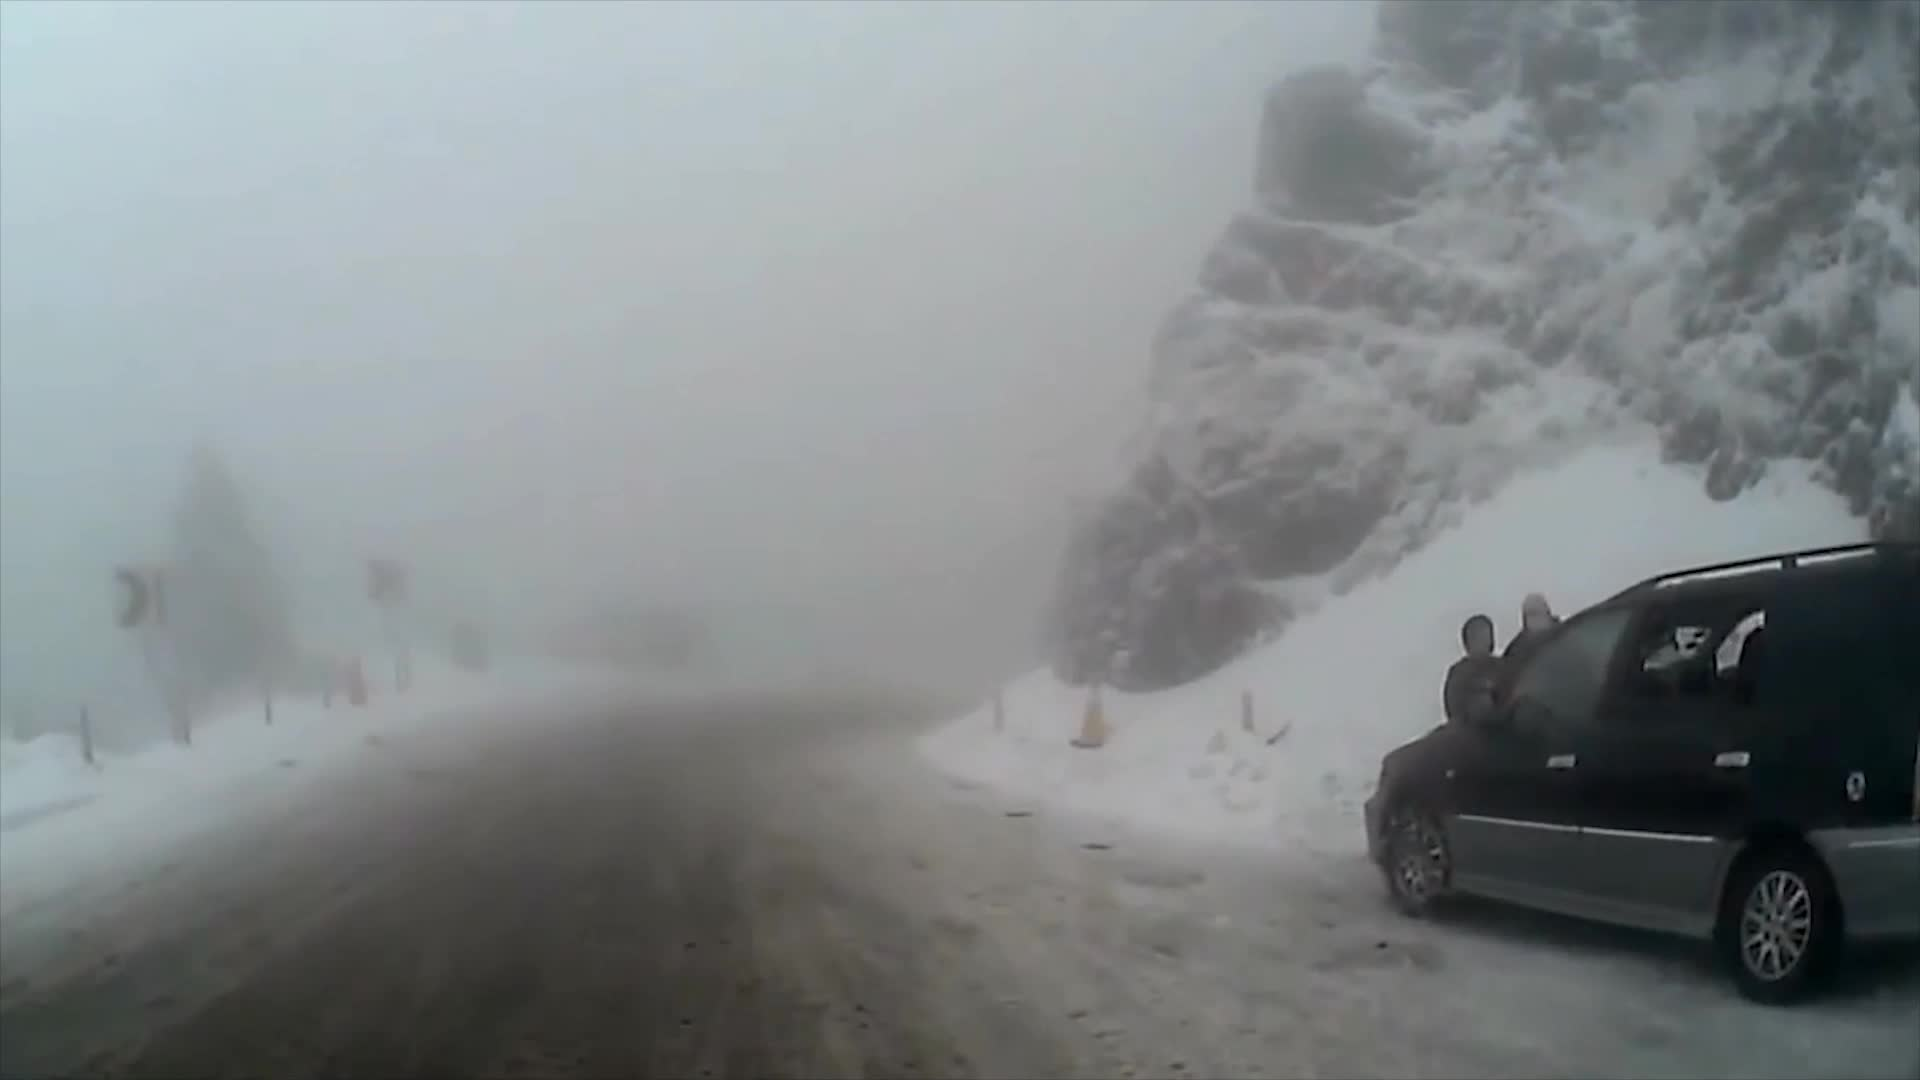pedestrian: (1440, 609, 1516, 877), (1499, 590, 1578, 839)
vehicle: (1360, 537, 1920, 1008)
